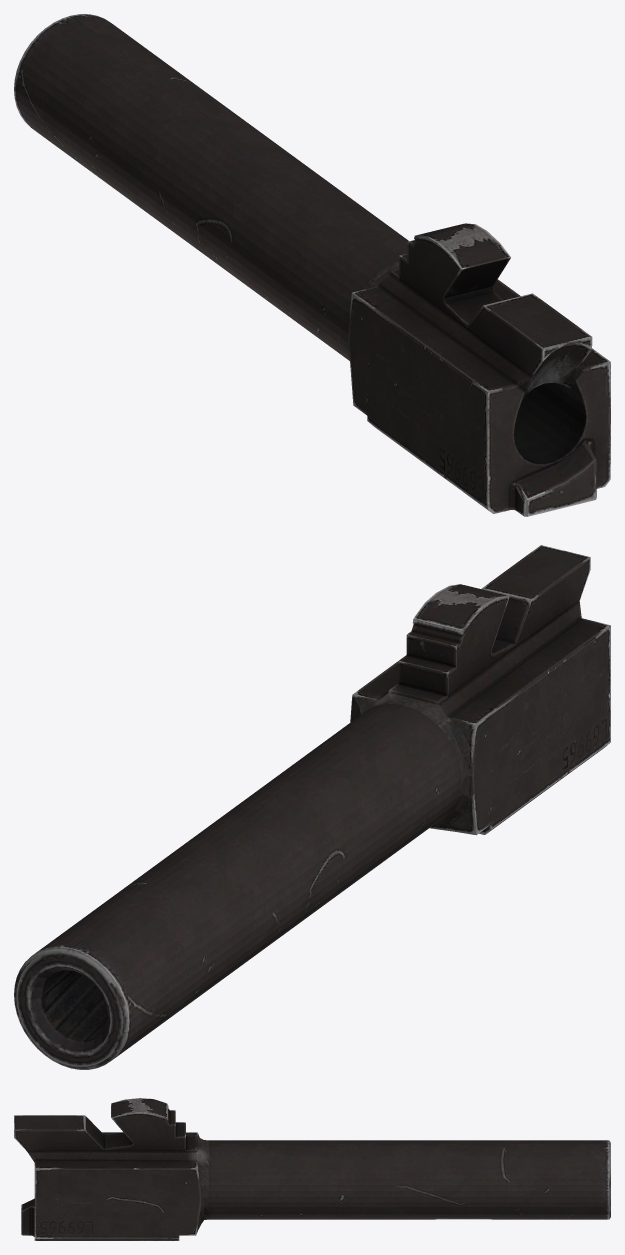
3 views of the same model, one above another, from view 1: azimuth 30°, elevation 25°; view 2: azimuth 150°, elevation 25°; view 3: azimuth 270°, elevation 25° (orthographic). The views are drawn at different scales.
Visible parts, largest first — view 1: TW_5a6b60158dc32e000a31138b_PZ_Import; view 2: TW_5a6b60158dc32e000a31138b_PZ_Import; view 3: TW_5a6b60158dc32e000a31138b_PZ_Import.
Part boxes in pixels (x1,y1,x2,y2): TW_5a6b60158dc32e000a31138b_PZ_Import: (14, 14, 610, 516); TW_5a6b60158dc32e000a31138b_PZ_Import: (14, 545, 610, 1069); TW_5a6b60158dc32e000a31138b_PZ_Import: (14, 1098, 610, 1240).
Bounding box in the file's own units: 0.00933 × 0.0651 × 0.0144.
1 material, 1 textured.
